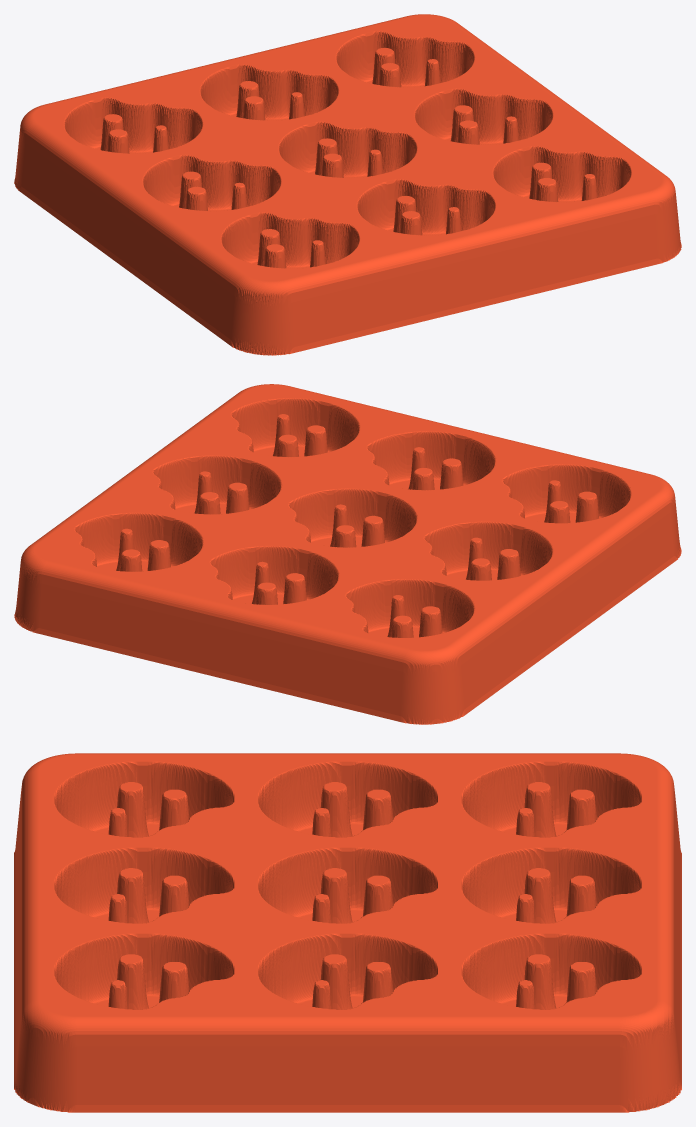
File: mold.glb
The picture shows the model from 3 angles, top to bottom: view 1: azimuth 30°, elevation 25°; view 2: azimuth 150°, elevation 25°; view 3: azimuth 270°, elevation 25°; orthographic projection. The views are drawn at different scales.
Parts seen in each view (by area): view 1: geometry_0; view 2: geometry_0; view 3: geometry_0.
Boxes of the visible parts, <box> form: geometry_0: <box>14,14,681,355</box>; geometry_0: <box>14,384,681,724</box>; geometry_0: <box>14,753,681,1112</box>.
Bounding box in the file's own units: 0.0964 × 0.0136 × 0.0964.
